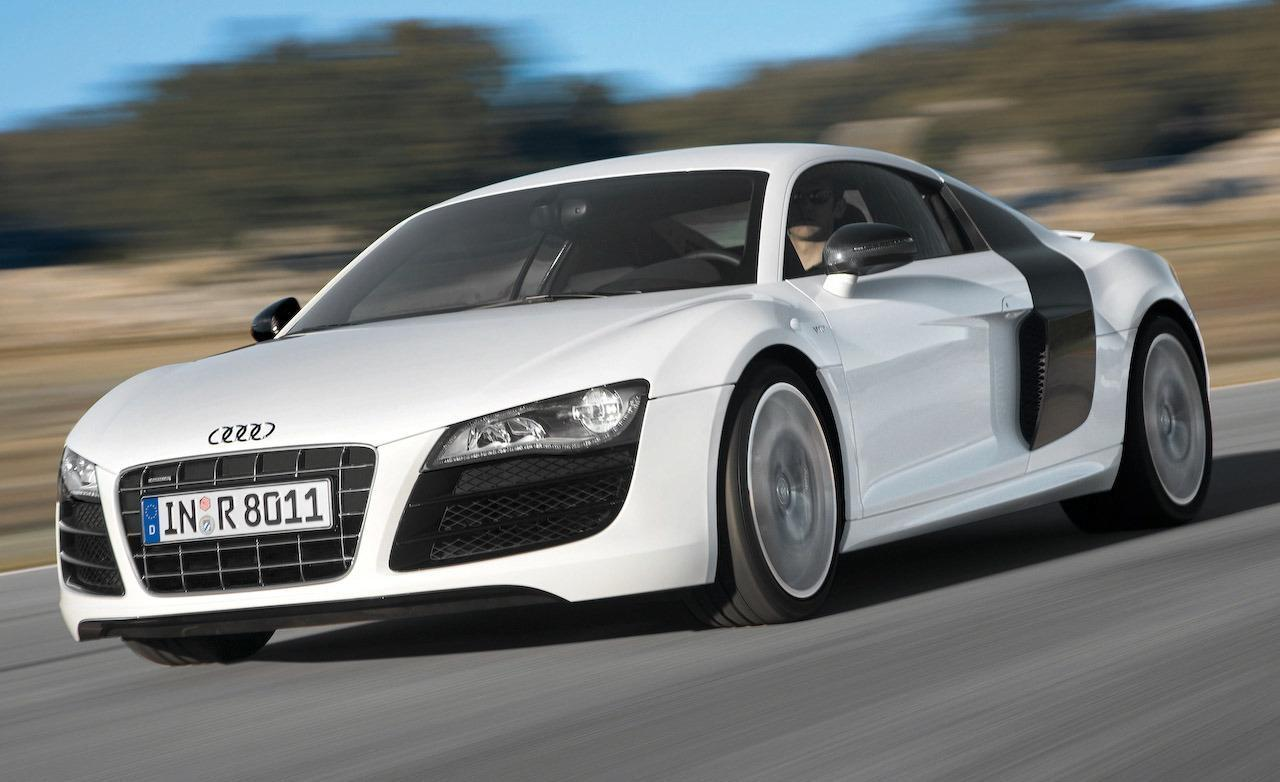Audi: (201, 407, 295, 456)
